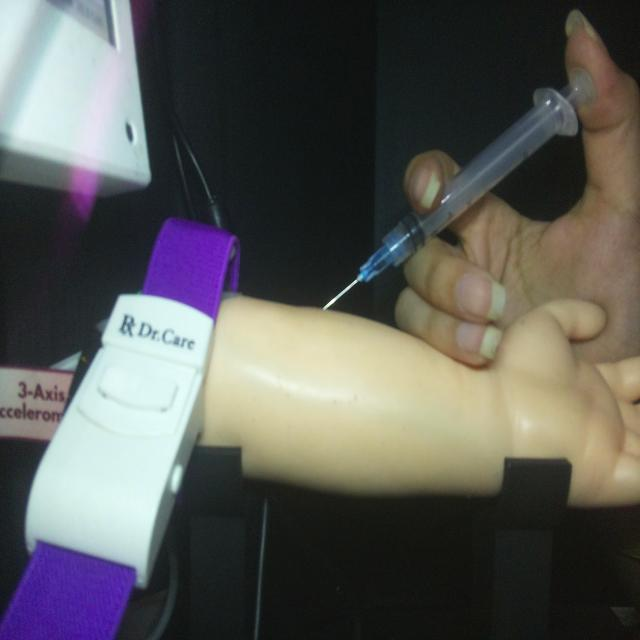28 degrees: (325, 68, 596, 308)
